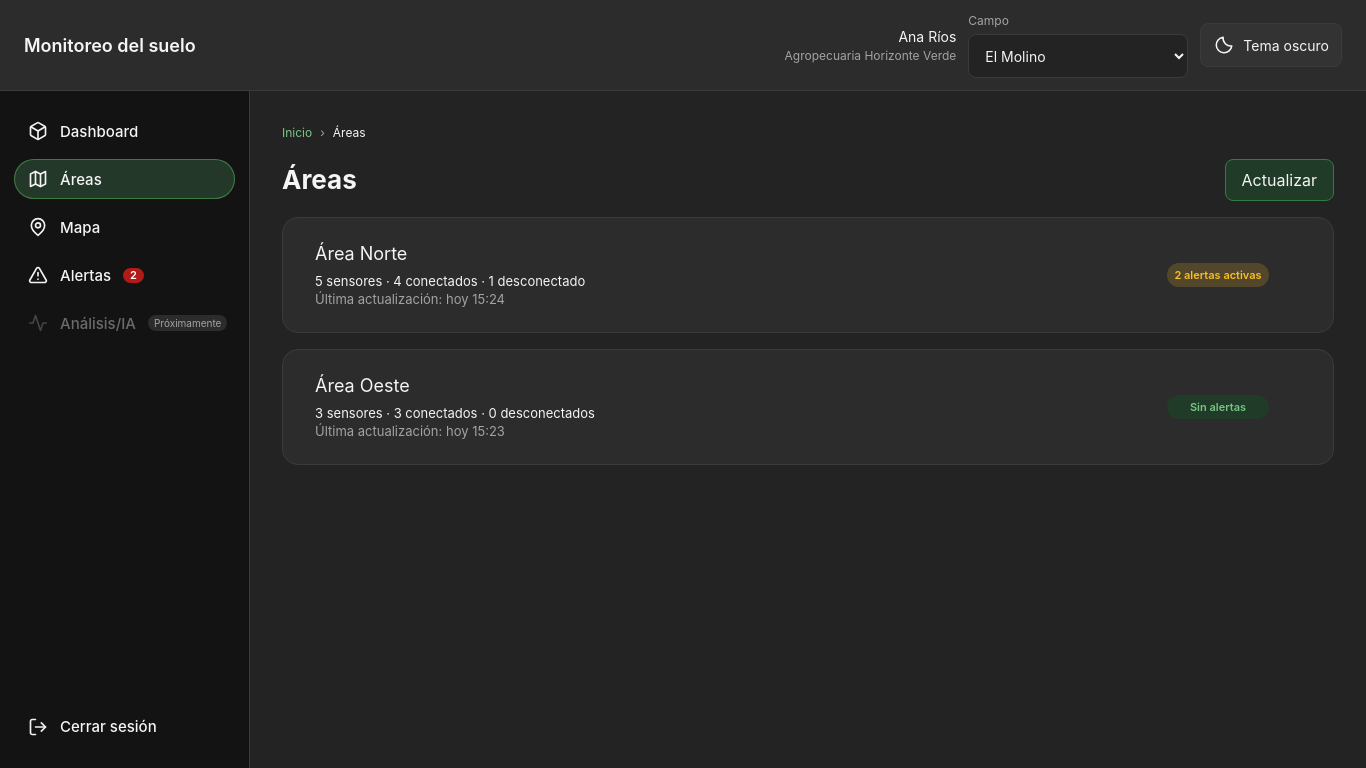
Scenario: Dashboard y Áreas con el selector real › un error al cambiar areas no conserva datos del campo anterior y permite reintentar
Expected: the link that starts with "Área Norte" is shown, [282, 217, 1334, 333]
Select "La Esperanza" in the dropdown labelled "Campo" at (1078, 56), box [968, 34, 1188, 78]
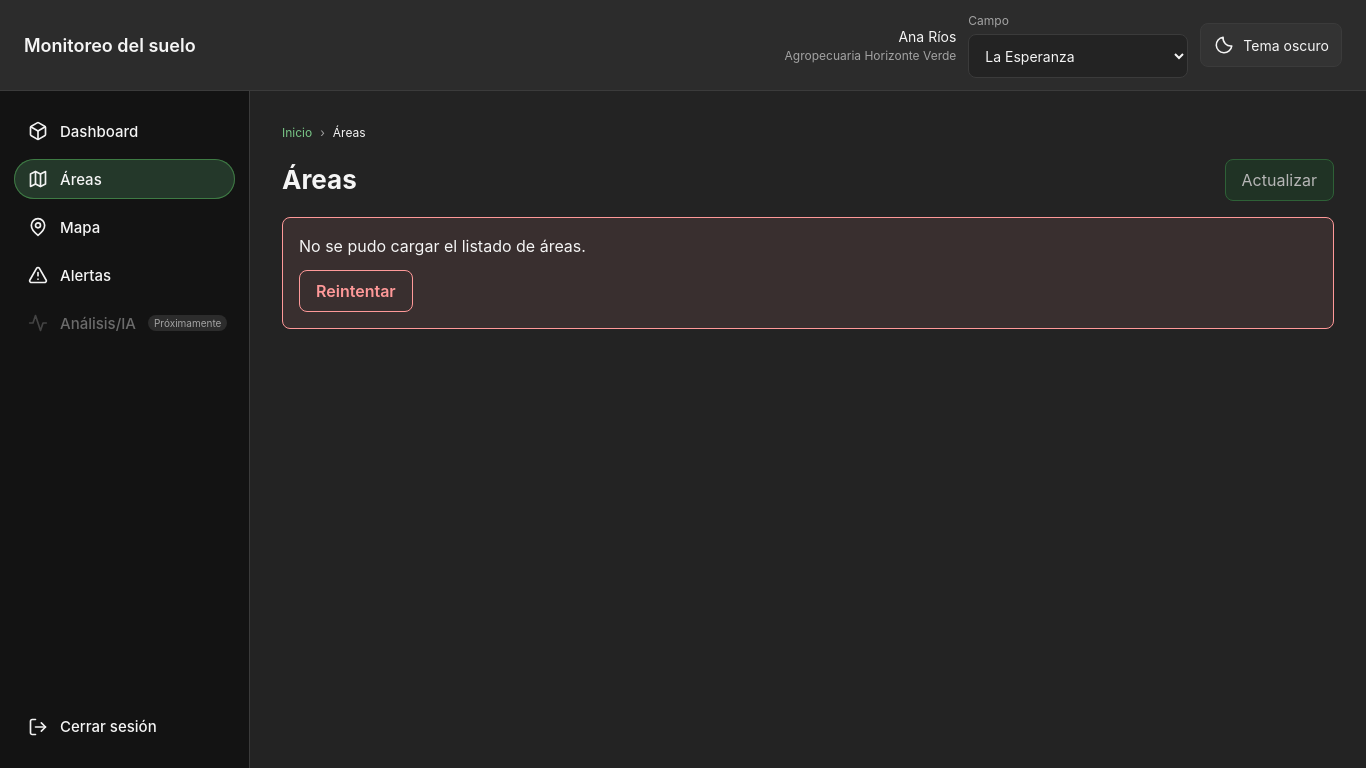
Expected: the message shows "No se pudo cargar el listado de áreas.", [299, 236, 586, 256]
Expected: the link "Área Norte" is gone
Click the button "Reintentar".
click(356, 291)  # box [299, 270, 413, 312]
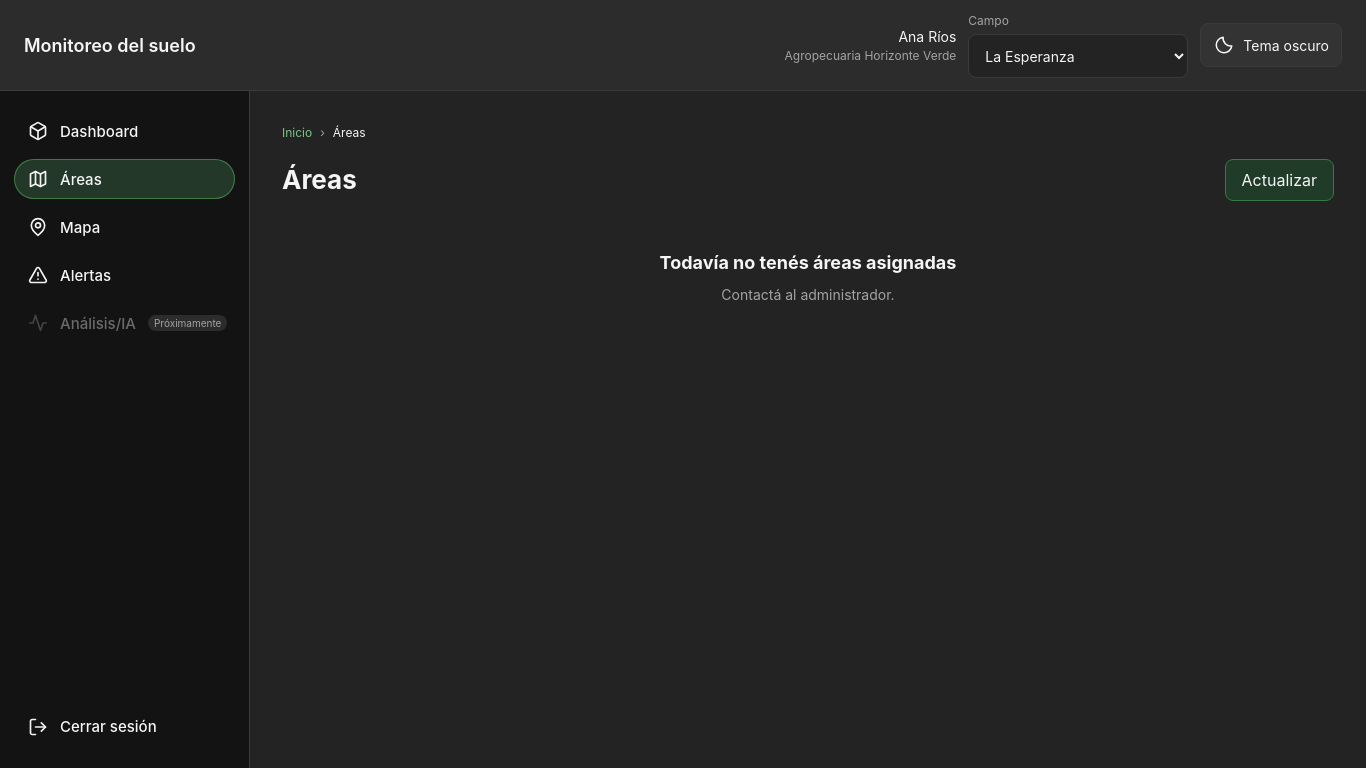
Expected: the heading "Todavía no tenés áreas asignadas" is shown, [660, 249, 956, 276]
